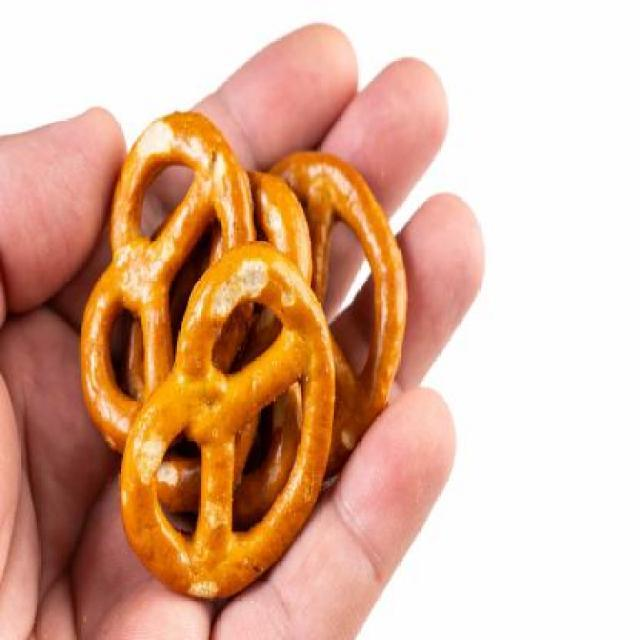Salatini packaged: (75, 109, 411, 589)
